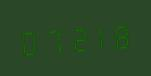eight: (110, 17, 132, 51)
one: (87, 19, 109, 53)
seven: (41, 22, 63, 56)
two: (64, 20, 86, 55)
zero: (18, 24, 40, 58)
